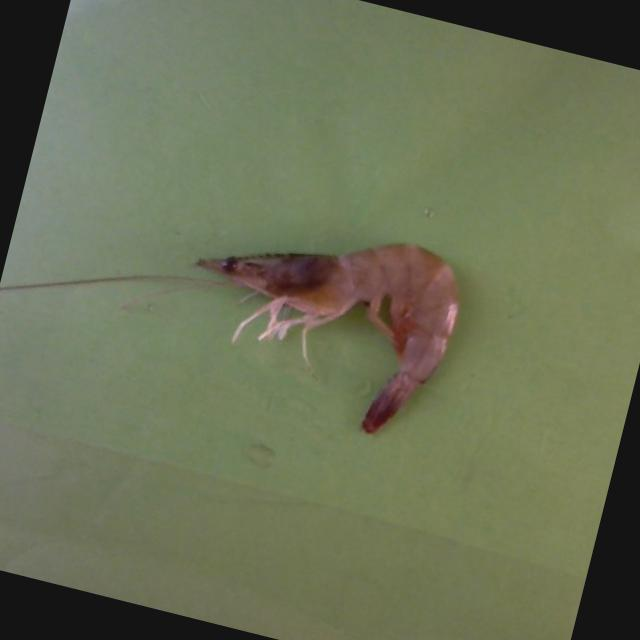shrimp: (196, 244, 459, 433)
